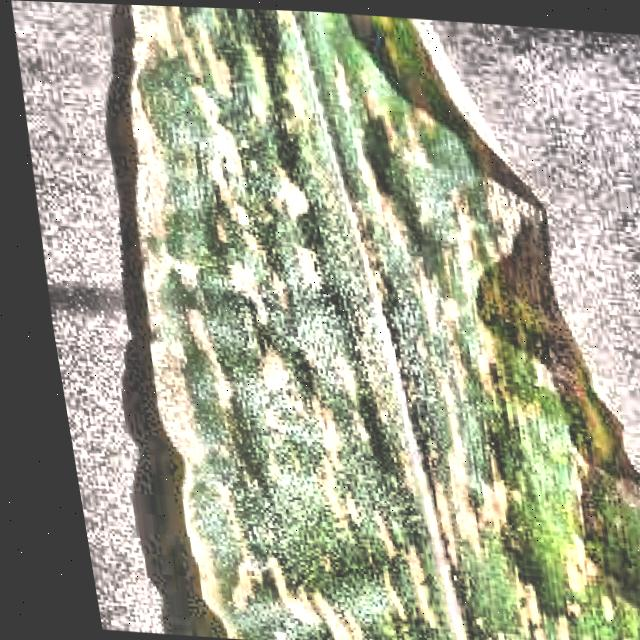gray_spot: (73, 3, 640, 640)
